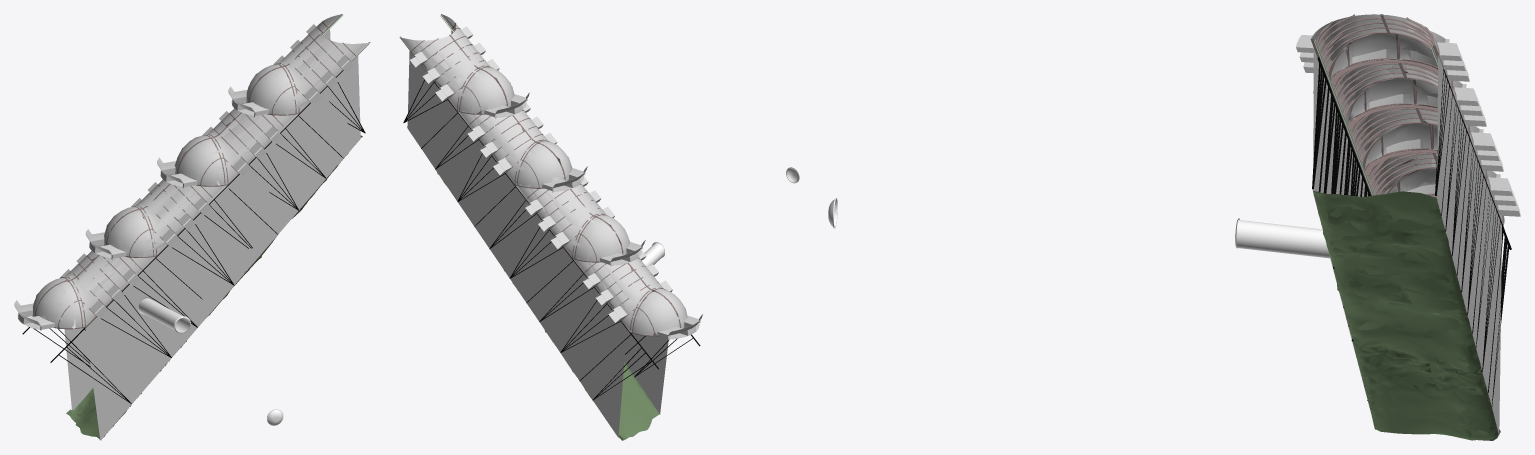
The model's file is First_Gallery_Lower_UpperPart.glb.
3 views of the same model, side by side, from view 1: azimuth 30°, elevation 25°; view 2: azimuth 150°, elevation 25°; view 3: azimuth 270°, elevation 25° (orthographic). The views are drawn at different scales.
Parts seen in each view (by area): view 1: FirstGalleryWalls_Upper.001, UpVaults0, UpVaults2, FirstGalleryWalls_Upper2, UpWindows0, FirstGalleryColumns-Upper.002, UpBeams0, UpWindows2, TubeHab-Entrance-Top0, UpBottom0, UpBottom2, UpBeams2 (+1 smaller); view 2: FirstGalleryWalls_Upper.001, UpVaults0, FirstGalleryWalls_Upper2, UpVaults2, UpWindows0, UpBeams0, FirstGalleryColumns-Upper.002, UpBottom2, UpWindows2, UpBottom0, FirstGalleryColumns-Upper2, UpBeams2; view 3: UpBottom0, UpBottom2, FirstGalleryWalls_Upper.001, FirstGalleryColumns-Upper.002, UpVaults2, UpBeams0, FirstGalleryWalls_Upper2, UpVaults0, UpWindows0, TubeHab-Entrance-Top0, UpBeams2, UpWindows2.
Boxes of the visible parts, left/top/right/bottom form: FirstGalleryWalls_Upper.001: left=64, top=29, right=360, bottom=440; UpVaults0: left=27, top=14, right=367, bottom=328; UpVaults2: left=32, top=14, right=369, bottom=328; FirstGalleryWalls_Upper2: left=65, top=31, right=355, bottom=439; UpWindows0: left=14, top=24, right=354, bottom=330; FirstGalleryColumns-Upper.002: left=22, top=70, right=365, bottom=404; UpBeams0: left=32, top=14, right=370, bottom=329; UpWindows2: left=18, top=90, right=271, bottom=329; TubeHab-Entrance-Top0: left=138, top=297, right=190, bottom=333; UpBottom0: left=69, top=136, right=362, bottom=436; UpBottom2: left=66, top=135, right=361, bottom=439; UpBeams2: left=38, top=14, right=350, bottom=328; FirstGalleryWalls_Upper.001: left=407, top=51, right=668, bottom=437; UpVaults0: left=401, top=14, right=701, bottom=335; FirstGalleryWalls_Upper2: left=408, top=30, right=668, bottom=436; UpVaults2: left=400, top=15, right=686, bottom=335; UpWindows0: left=410, top=26, right=702, bottom=339; UpBeams0: left=399, top=14, right=684, bottom=336; FirstGalleryColumns-Upper.002: left=403, top=79, right=700, bottom=399; UpBottom2: left=437, top=172, right=658, bottom=439; UpWindows2: left=418, top=35, right=702, bottom=339; UpBottom0: left=407, top=126, right=659, bottom=440; FirstGalleryColumns-Upper2: left=460, top=116, right=699, bottom=398; UpBeams2: left=400, top=23, right=678, bottom=336; UpBottom0: left=1314, top=191, right=1500, bottom=440; UpBottom2: left=1312, top=190, right=1499, bottom=440; FirstGalleryWalls_Upper.001: left=1314, top=49, right=1501, bottom=434; FirstGalleryColumns-Upper.002: left=1312, top=63, right=1511, bottom=406; UpVaults2: left=1310, top=14, right=1503, bottom=225; UpBeams0: left=1311, top=14, right=1504, bottom=225; FirstGalleryWalls_Upper2: left=1313, top=49, right=1501, bottom=428; UpVaults0: left=1311, top=14, right=1504, bottom=221; UpWindows0: left=1296, top=31, right=1520, bottom=216; TubeHab-Entrance-Top0: left=1235, top=218, right=1329, bottom=258; UpBeams2: left=1314, top=14, right=1503, bottom=224; UpWindows2: left=1352, top=49, right=1496, bottom=194.
Size of what is drawn, in the model's own units: 185 by 197 by 203.
